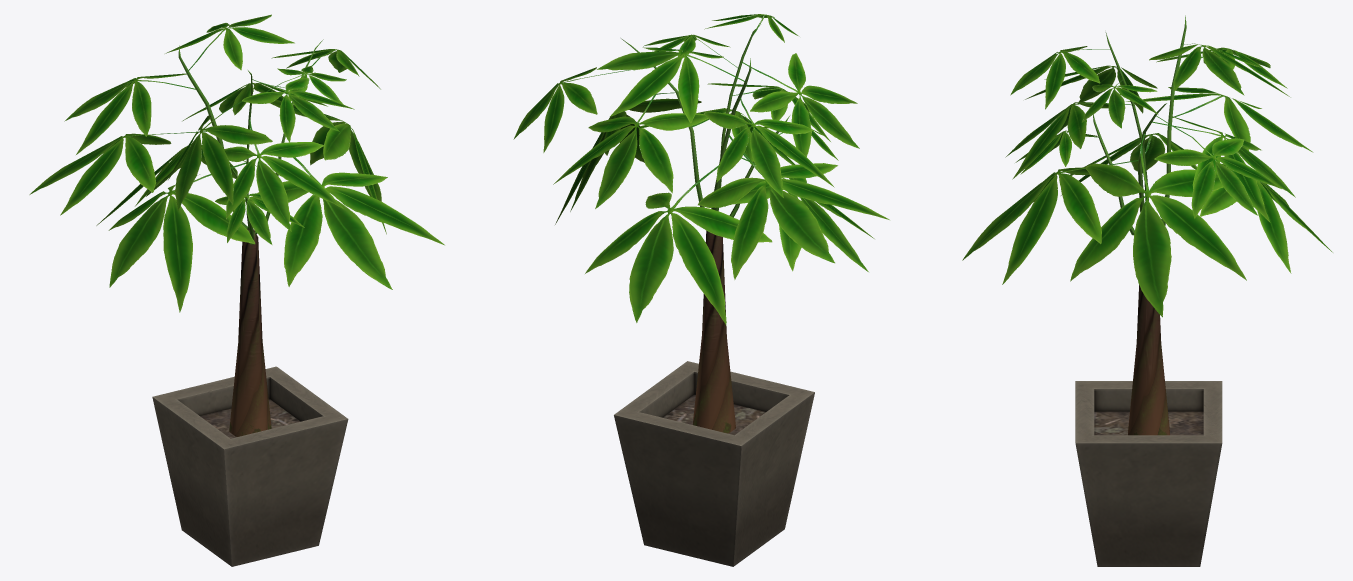
File: Plant Pot.fbx
The picture shows the model from 3 angles, left to right: view 1: azimuth 30°, elevation 25°; view 2: azimuth 150°, elevation 25°; view 3: azimuth 270°, elevation 25°; orthographic projection. The views are drawn at different scales.
Parts seen in each view (by area): view 1: Plant; view 2: Plant; view 3: Plant.
Boxes of the visible parts, x1,y1,x2,y2 form: Plant: [29, 14, 444, 566]; Plant: [513, 14, 889, 566]; Plant: [962, 15, 1332, 566].
Size of the model in its own units: 85.21 by 105 by 72.8.
